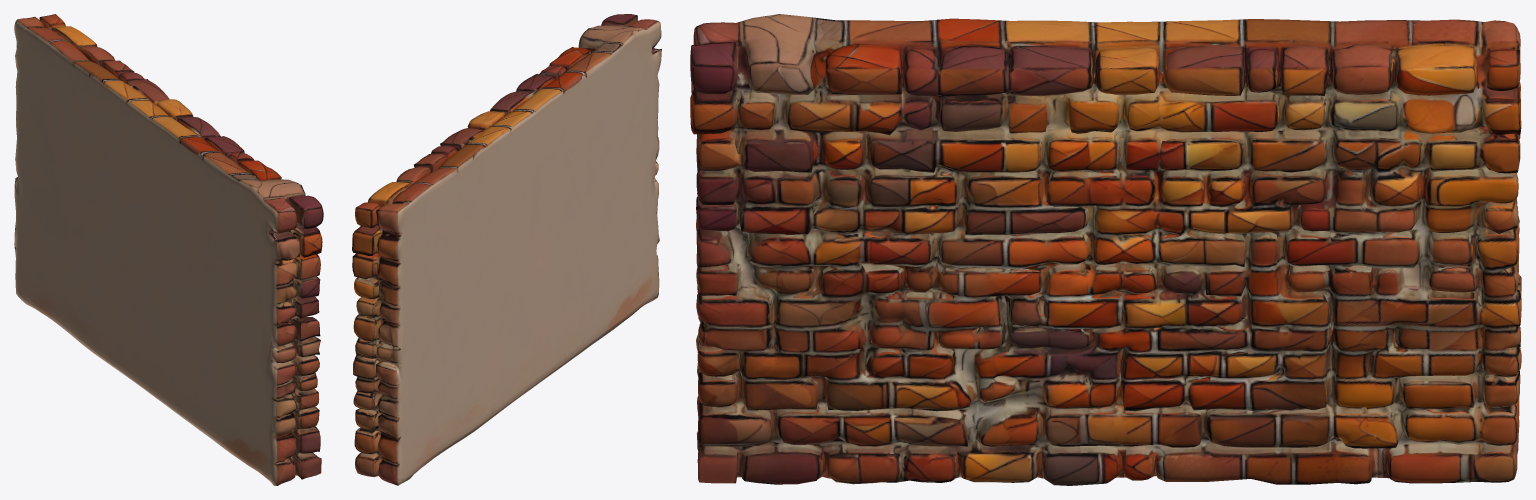
File: tripo_convert_e6db2dbe-a0d0-431b-92c0-5a408c8a28e6.fbx
The picture shows the model from 3 angles, left to right: view 1: azimuth 30°, elevation 25°; view 2: azimuth 150°, elevation 25°; view 3: azimuth 270°, elevation 25°; orthographic projection. The views are drawn at different scales.
Visible parts, largest first — view 1: tripo_node_e6db2dbe; view 2: tripo_node_e6db2dbe; view 3: tripo_node_e6db2dbe.
Boxes of the visible parts, box(x1,y1,x2,y2) form: tripo_node_e6db2dbe: box(14, 14, 323, 485); tripo_node_e6db2dbe: box(352, 14, 661, 485); tripo_node_e6db2dbe: box(690, 14, 1521, 485).
Size of the model in its own units: 0.1093 by 0.5861 by 0.9991.
Materials: 1 (1 with a texture image).
